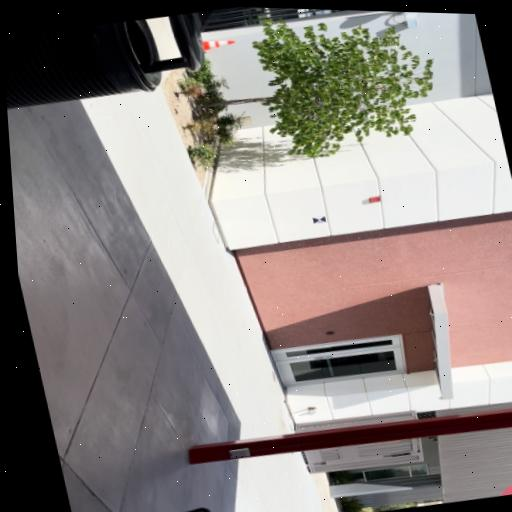target2: (312, 215, 327, 224)
